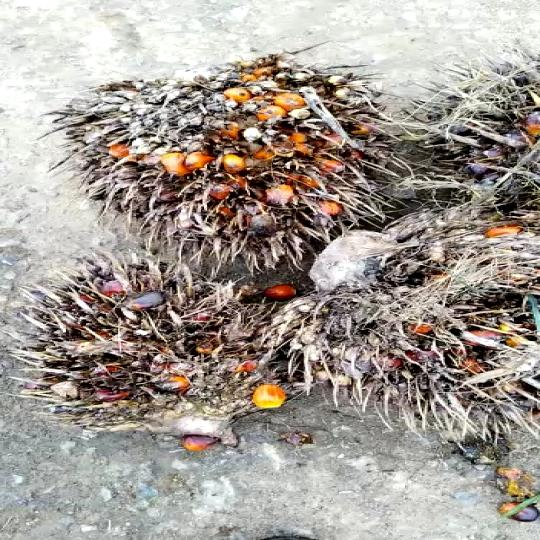terlalu masak: (36, 70, 393, 256), (293, 218, 540, 418), (18, 270, 296, 430)
